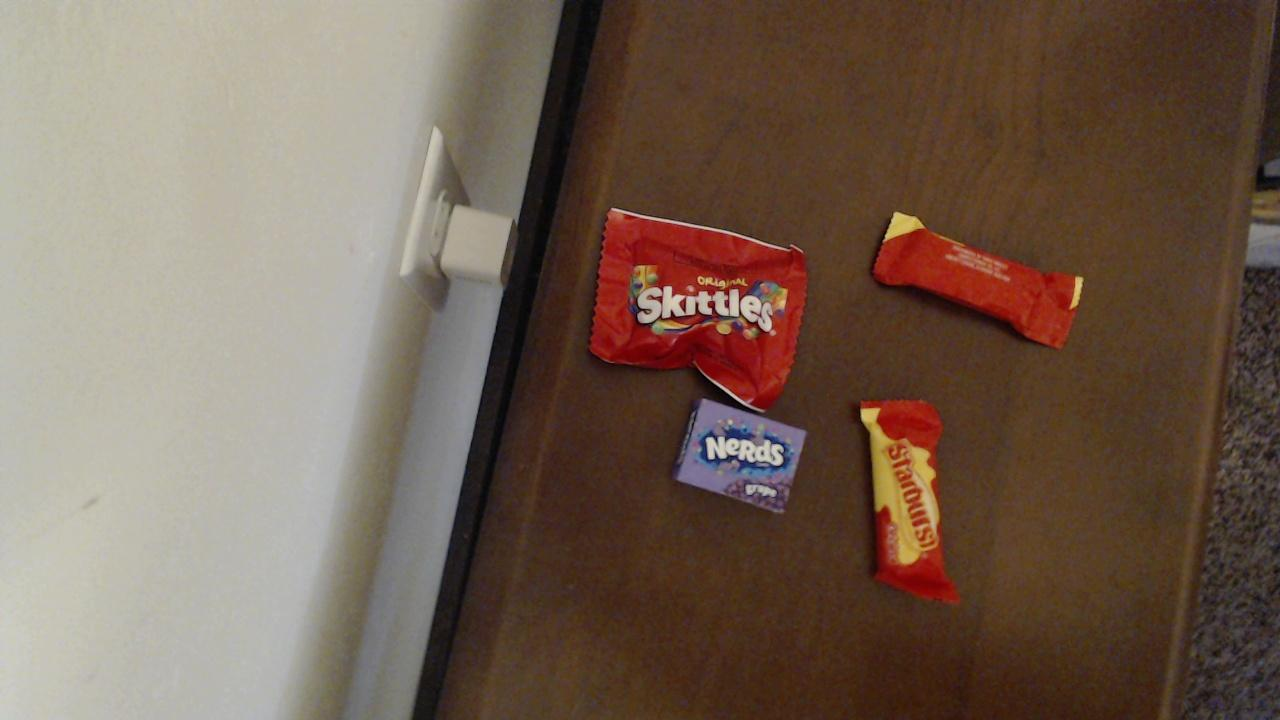nerds: (672, 397, 810, 515)
skittles: (590, 208, 809, 411)
starburst: (868, 211, 1084, 348), (860, 397, 958, 605)
